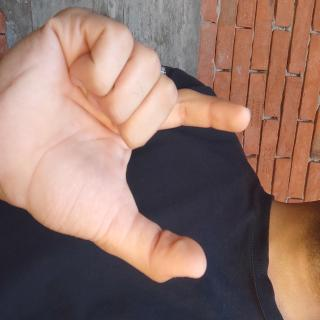NOON: (0, 85, 219, 320)
